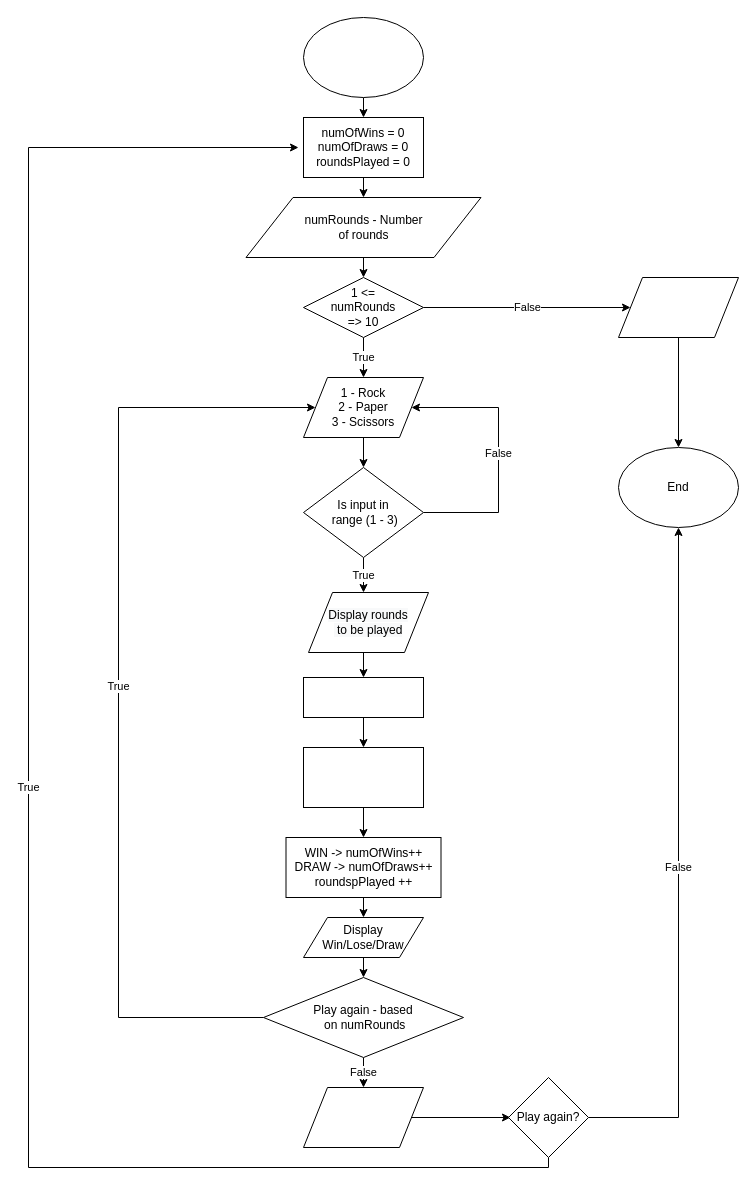
This 756x1193 diagram has some shape labels left out. Here are the shapes that lost their labels. From the top down, the centre of each, then its label:
At point (363, 57): "Start".
At point (678, 307): "Invalid Input".
At point (363, 697): "Random Generator 1, 2, 3".
At point (363, 777): "Compare RandomGenerator with PlayerInput".
At point (363, 1117): "Display result - who won?".
